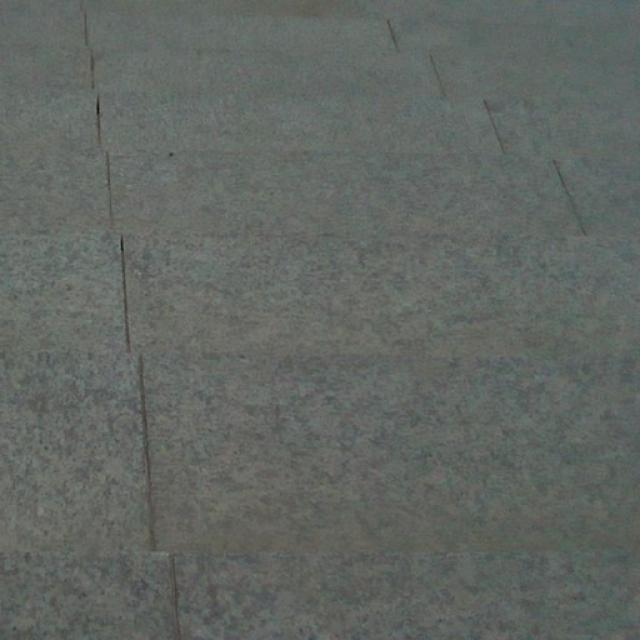stair: (20, 14, 640, 569)
